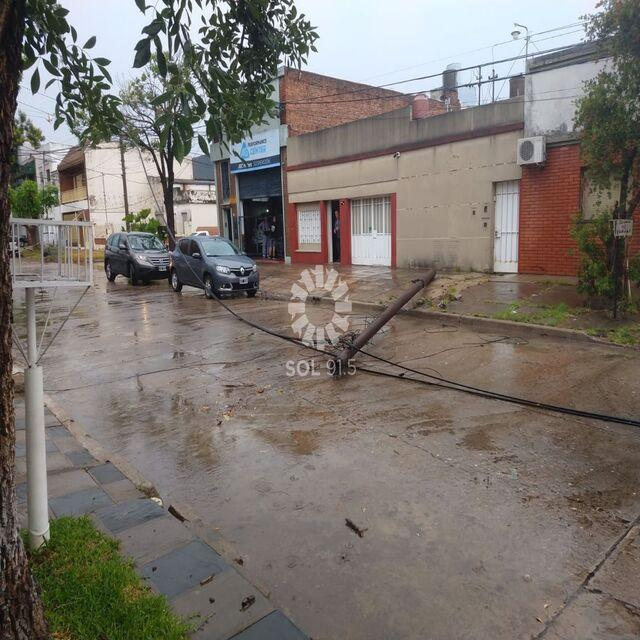Inclined Pole: (323, 270, 436, 376)
